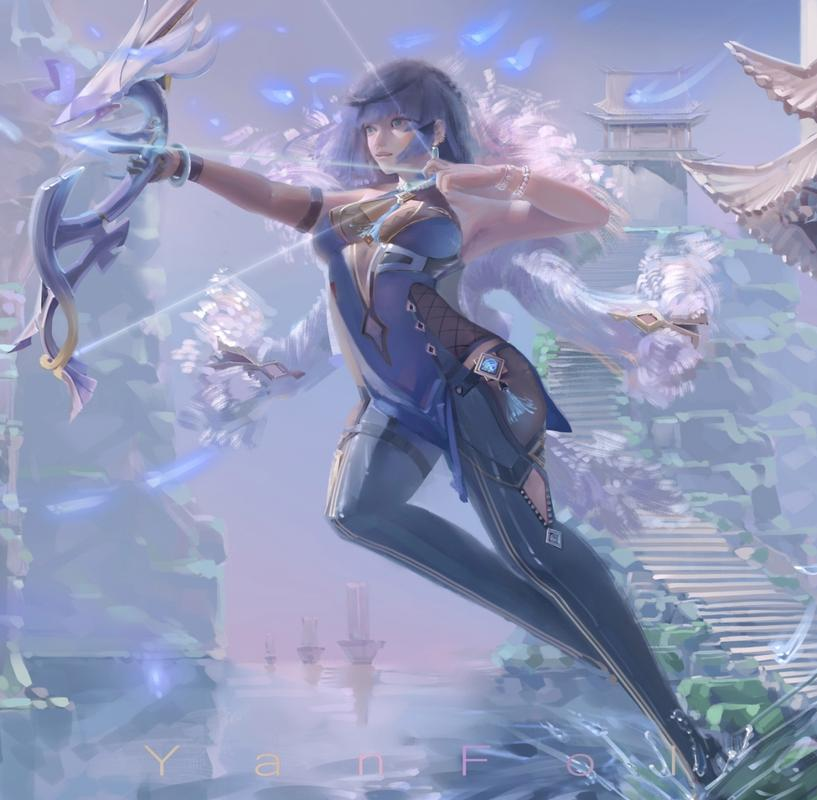夜兰: (131, 59, 735, 800)
